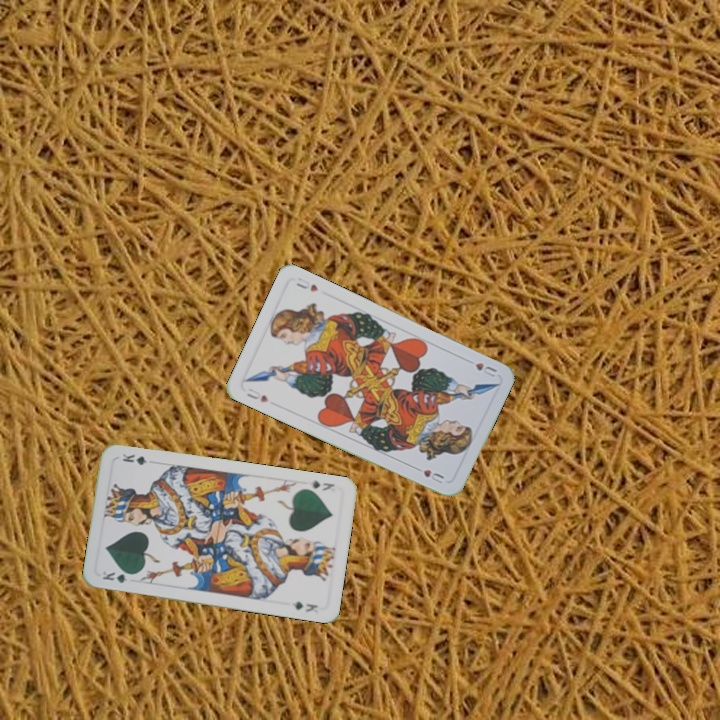GK: (98, 567, 138, 585), (308, 476, 337, 493)
HU: (471, 358, 500, 380), (243, 384, 272, 405)
